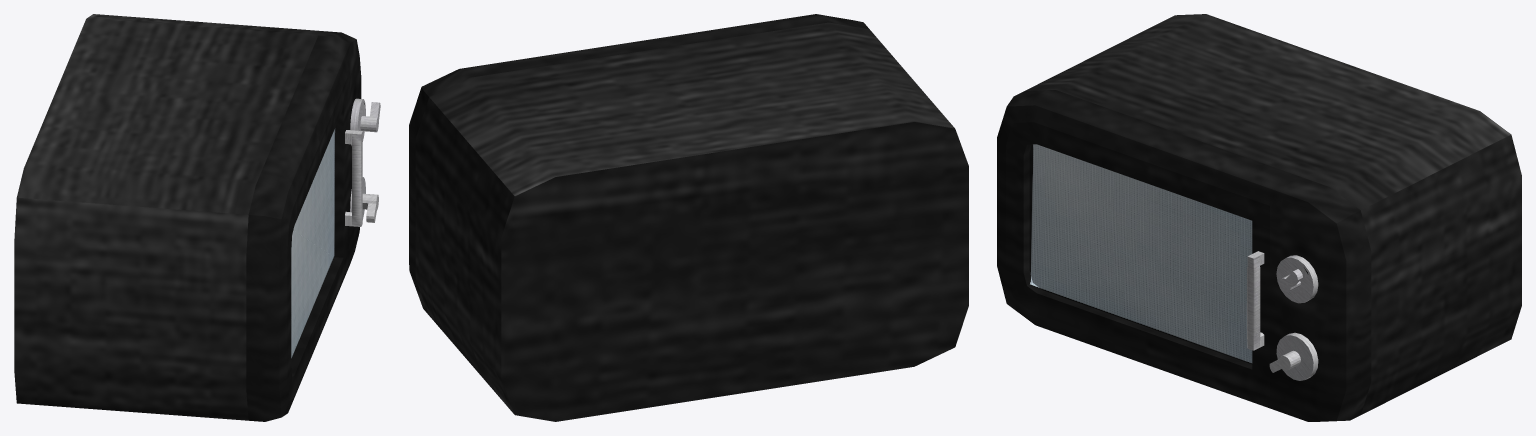
The model's file is MicrowaveBetter.fbx.
3 views of the same model, side by side, from view 1: azimuth 30°, elevation 25°; view 2: azimuth 150°, elevation 25°; view 3: azimuth 270°, elevation 25° (orthographic). The views are drawn at different scales.
Visible parts, largest first — view 1: Microwave; view 2: Microwave; view 3: Microwave.
Part boxes in pixels (x1,y1,x2,y2): Microwave: (14,14,380,421); Microwave: (409,14,968,421); Microwave: (997,14,1521,421).
Bounding box in the file's own units: 0.5278 × 0.2668 × 0.553.
